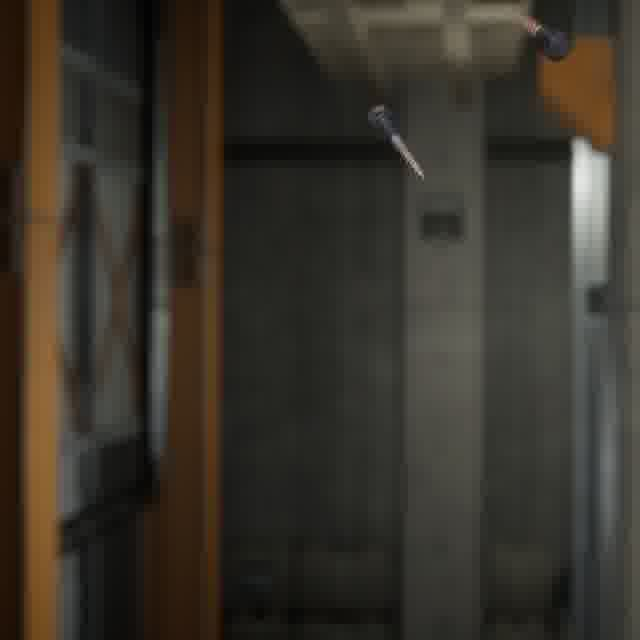bolt: (362, 100, 429, 183), (511, 9, 576, 66)
